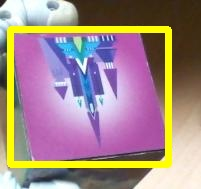Castle4: (10, 29, 168, 164)
